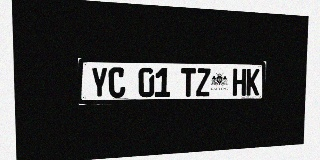0: (138, 67, 154, 97)
1: (155, 68, 170, 97)
C: (108, 67, 125, 98)
H: (233, 68, 246, 96)
K: (246, 69, 260, 96)
T: (181, 68, 196, 97)
Y: (90, 67, 108, 98)
Z: (196, 68, 210, 96)
